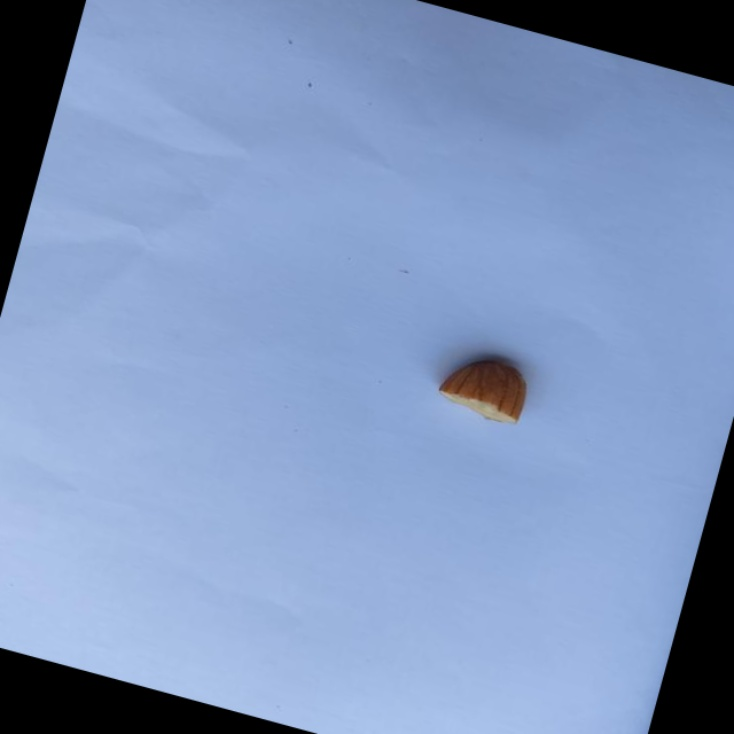grade4: (424, 338, 543, 434)
